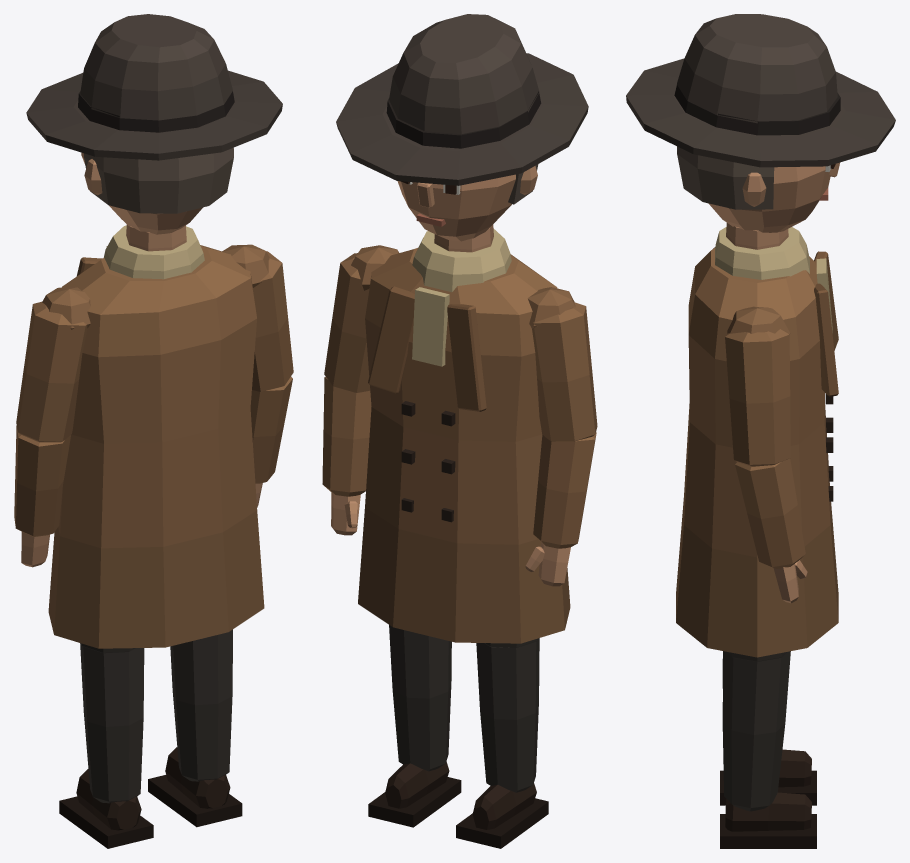
Rendered from chr_uncle.glb.
3 renders of one model, left to right at view 1: azimuth 30°, elevation 25°; view 2: azimuth 150°, elevation 25°; view 3: azimuth 270°, elevation 25°, orthographic.
Visible parts, largest first — view 1: chr_uncle_stand; view 2: chr_uncle_stand; view 3: chr_uncle_stand.
Part boxes in pixels (x1=…): chr_uncle_stand: x1=14, y1=14, x2=293, y2=848; chr_uncle_stand: x1=322, y1=14, x2=597, y2=848; chr_uncle_stand: x1=626, y1=14, x2=895, y2=848.
Bounding box in the file's own units: 0.6162 × 1.73 × 0.5356.
